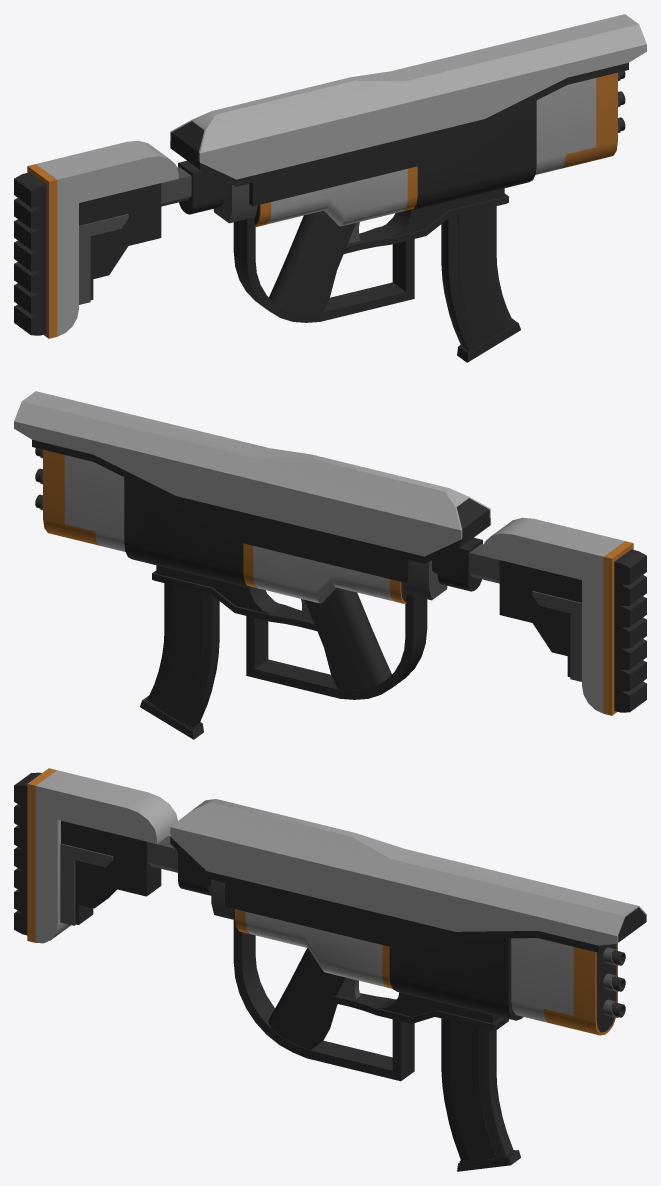
The model's file is quaternius-modular-sci-fi-guns-ar-3.glb.
3 views of the same model, one above another, from view 1: azimuth 30°, elevation 25°; view 2: azimuth 150°, elevation 25°; view 3: azimuth 330°, elevation 25° (orthographic).
Parts seen in each view (by area): view 1: AR_3; view 2: AR_3; view 3: AR_3.
Boxes of the visible parts, x1,y1,x2,y2 form: AR_3: (14,14,646,362); AR_3: (14,391,646,739); AR_3: (14,768,646,1171).
Bounding box in the file's own units: 1.55 × 0.7451 × 0.1309.
